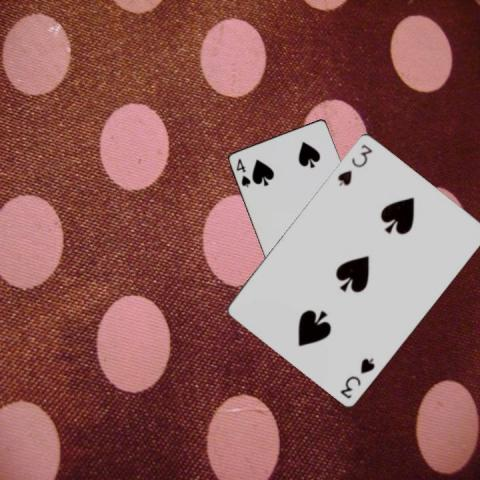3s: (337, 354, 377, 400), (335, 141, 373, 187)
4s: (233, 155, 252, 189)
